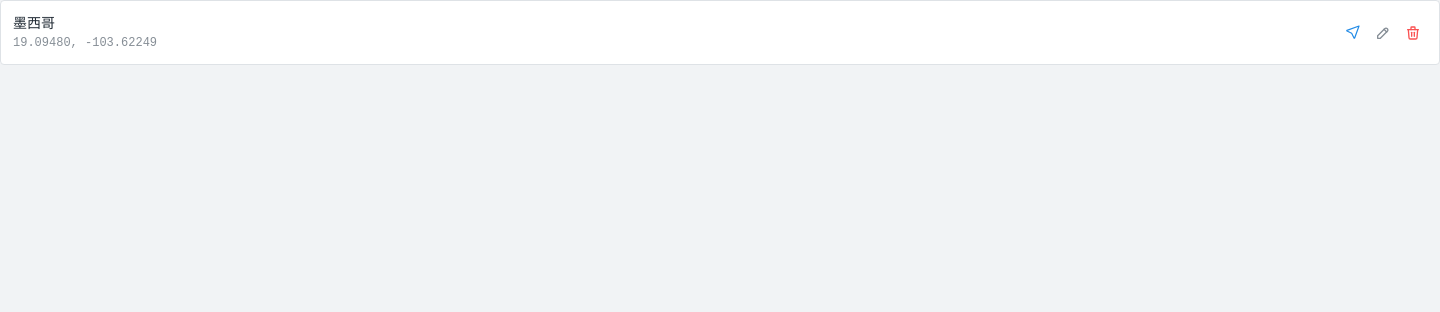
Test case: FavoriteItem teleport action › only allows choosing an existing group while editing
What coordinates should you click on to do the following:
click the button named "重新命名"
I would click on:
 (1383, 32)
Its box is x1=1369 y1=18 x2=1397 y2=46.
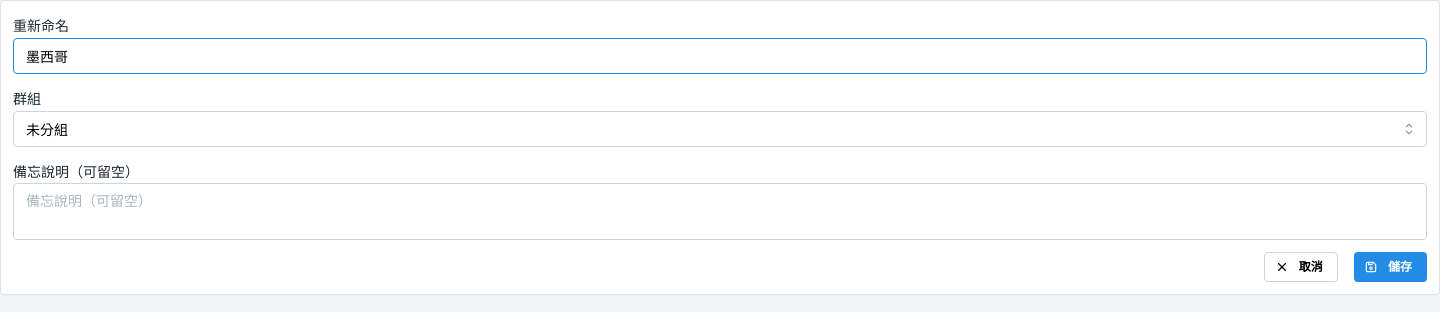
What coordinates should you click on to do the following:
click the field labelled "群組"
I would click on:
 (720, 129)
Its box is x1=13 y1=111 x2=1427 y2=147.
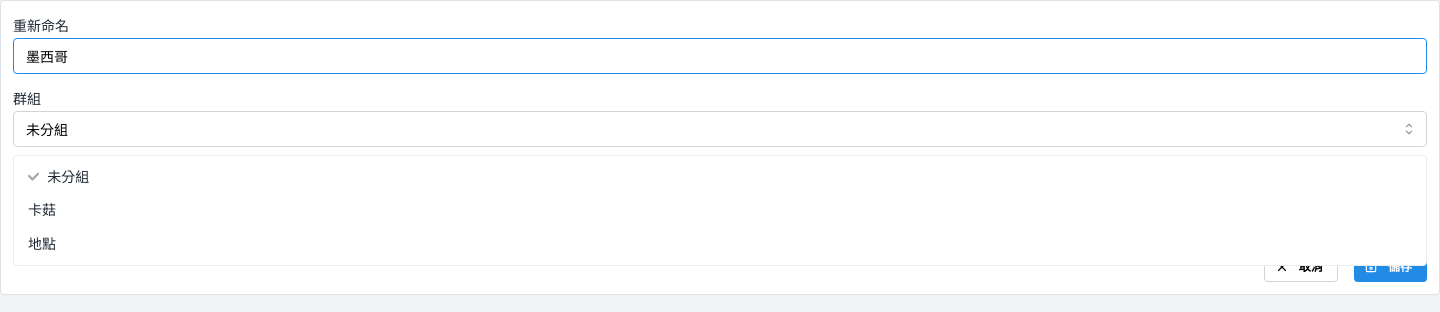
expect the option "卡菇" is shown: met, box x1=28 y1=201 x2=56 y2=218
expect the option "地點" is shown: met, box x1=28 y1=235 x2=56 y2=252
expect the option "未分組" is shown: met, box x1=28 y1=168 x2=89 y2=185
